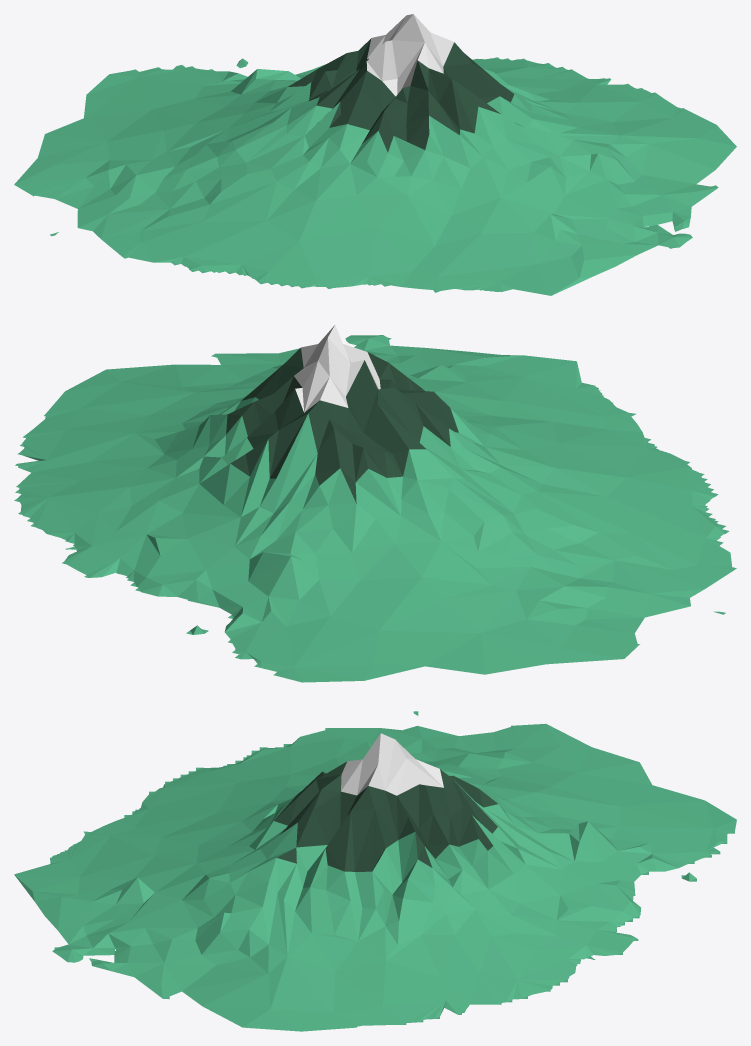
The model's file is rishiri-prototype3.glb.
3 views of the same model, one above another, from view 1: azimuth 30°, elevation 25°; view 2: azimuth 150°, elevation 25°; view 3: azimuth 270°, elevation 25° (orthographic). The views are drawn at different scales.
Visible parts, largest first — view 1: fumoto, mid, sanchou; view 2: fumoto, mid, sanchou; view 3: fumoto, mid, sanchou.
Boxes of the visible parts, x1=… form: fumoto: x1=14, y1=57, x2=736, y2=295; mid: x1=288, y1=38, x2=514, y2=152; sanchou: x1=366, y1=14, x2=453, y2=96; fumoto: x1=14, y1=335, x2=736, y2=682; mid: x1=226, y1=348, x2=458, y2=503; sanchou: x1=294, y1=325, x2=380, y2=412; fumoto: x1=14, y1=711, x2=736, y2=1031; mid: x1=274, y1=761, x2=497, y2=871; sanchou: x1=341, y1=733, x2=443, y2=795.
Size of the model in its own units: 94.11 by 21.85 by 89.77.
